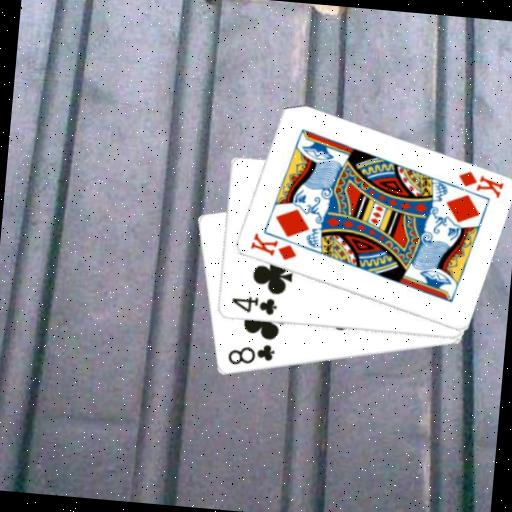4C: (228, 292, 280, 317)
8C: (224, 338, 277, 371)
KD: (246, 230, 299, 263), (453, 167, 506, 200)
